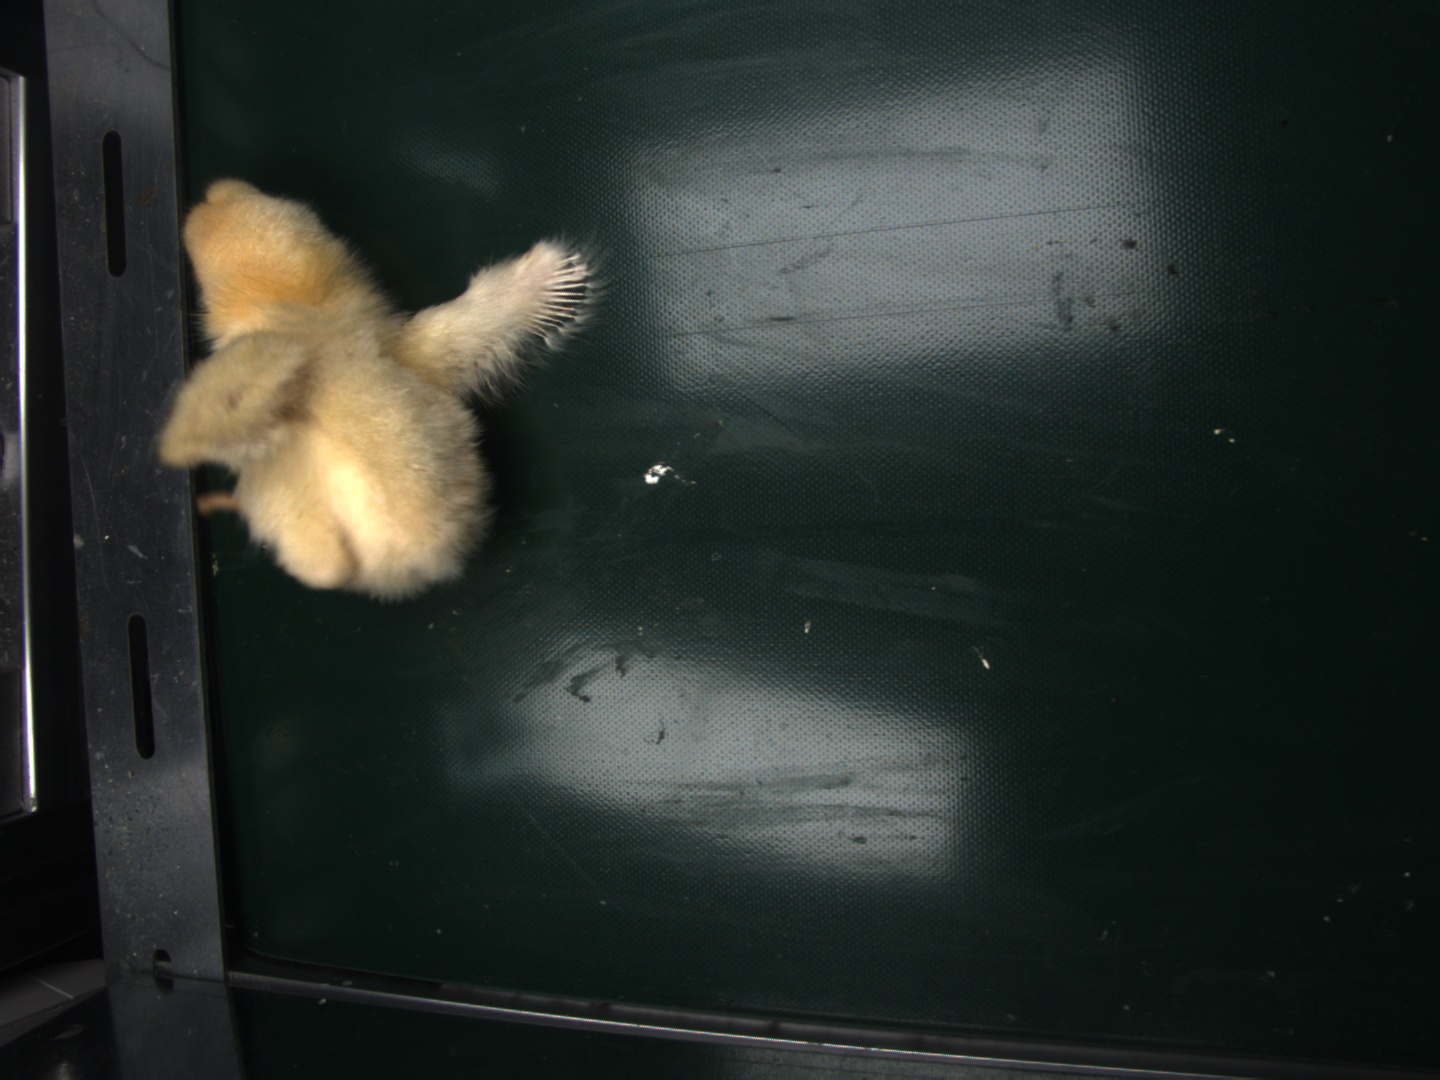male: (535, 247, 599, 338)
